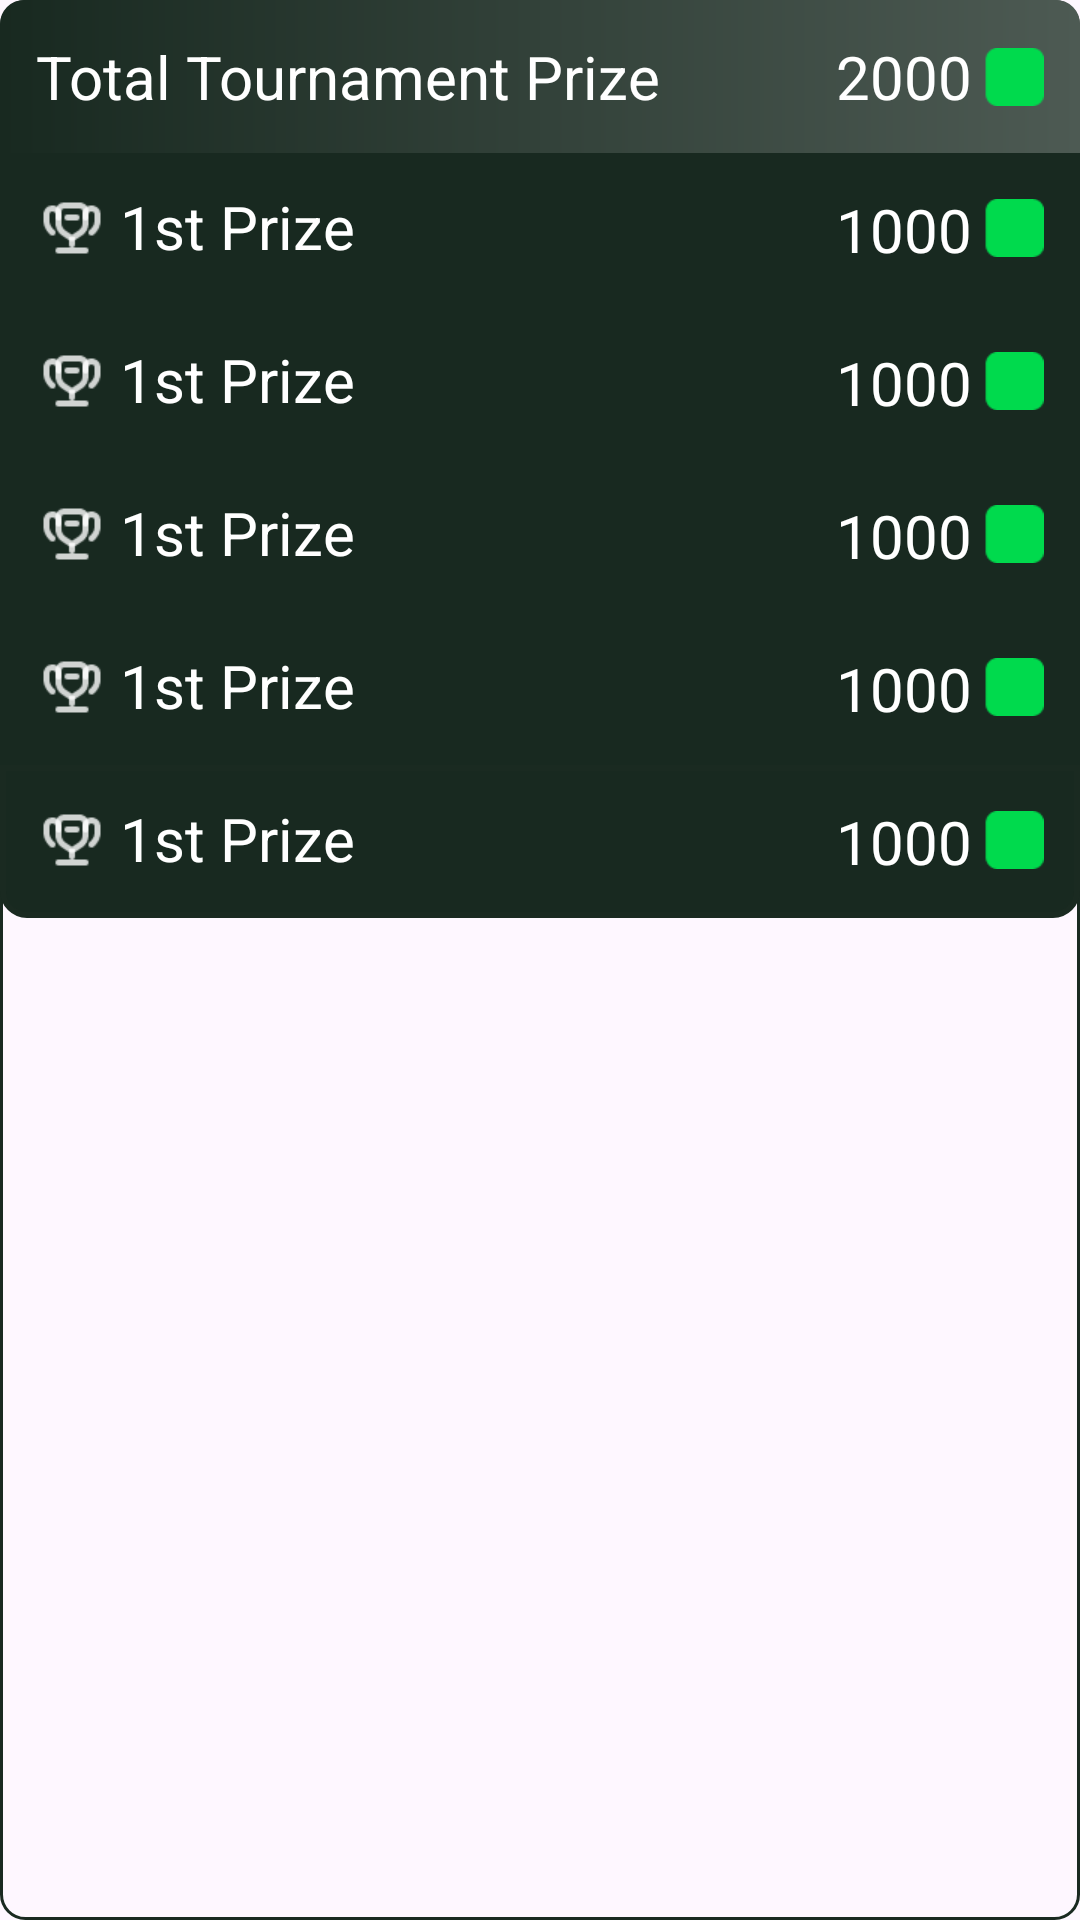

Screen size 1080x1920. Icon name, then its center in pixels as point (x, y):
trophy prize: point (72, 228), point (72, 381), point (72, 534), point (72, 687), point (72, 840)
